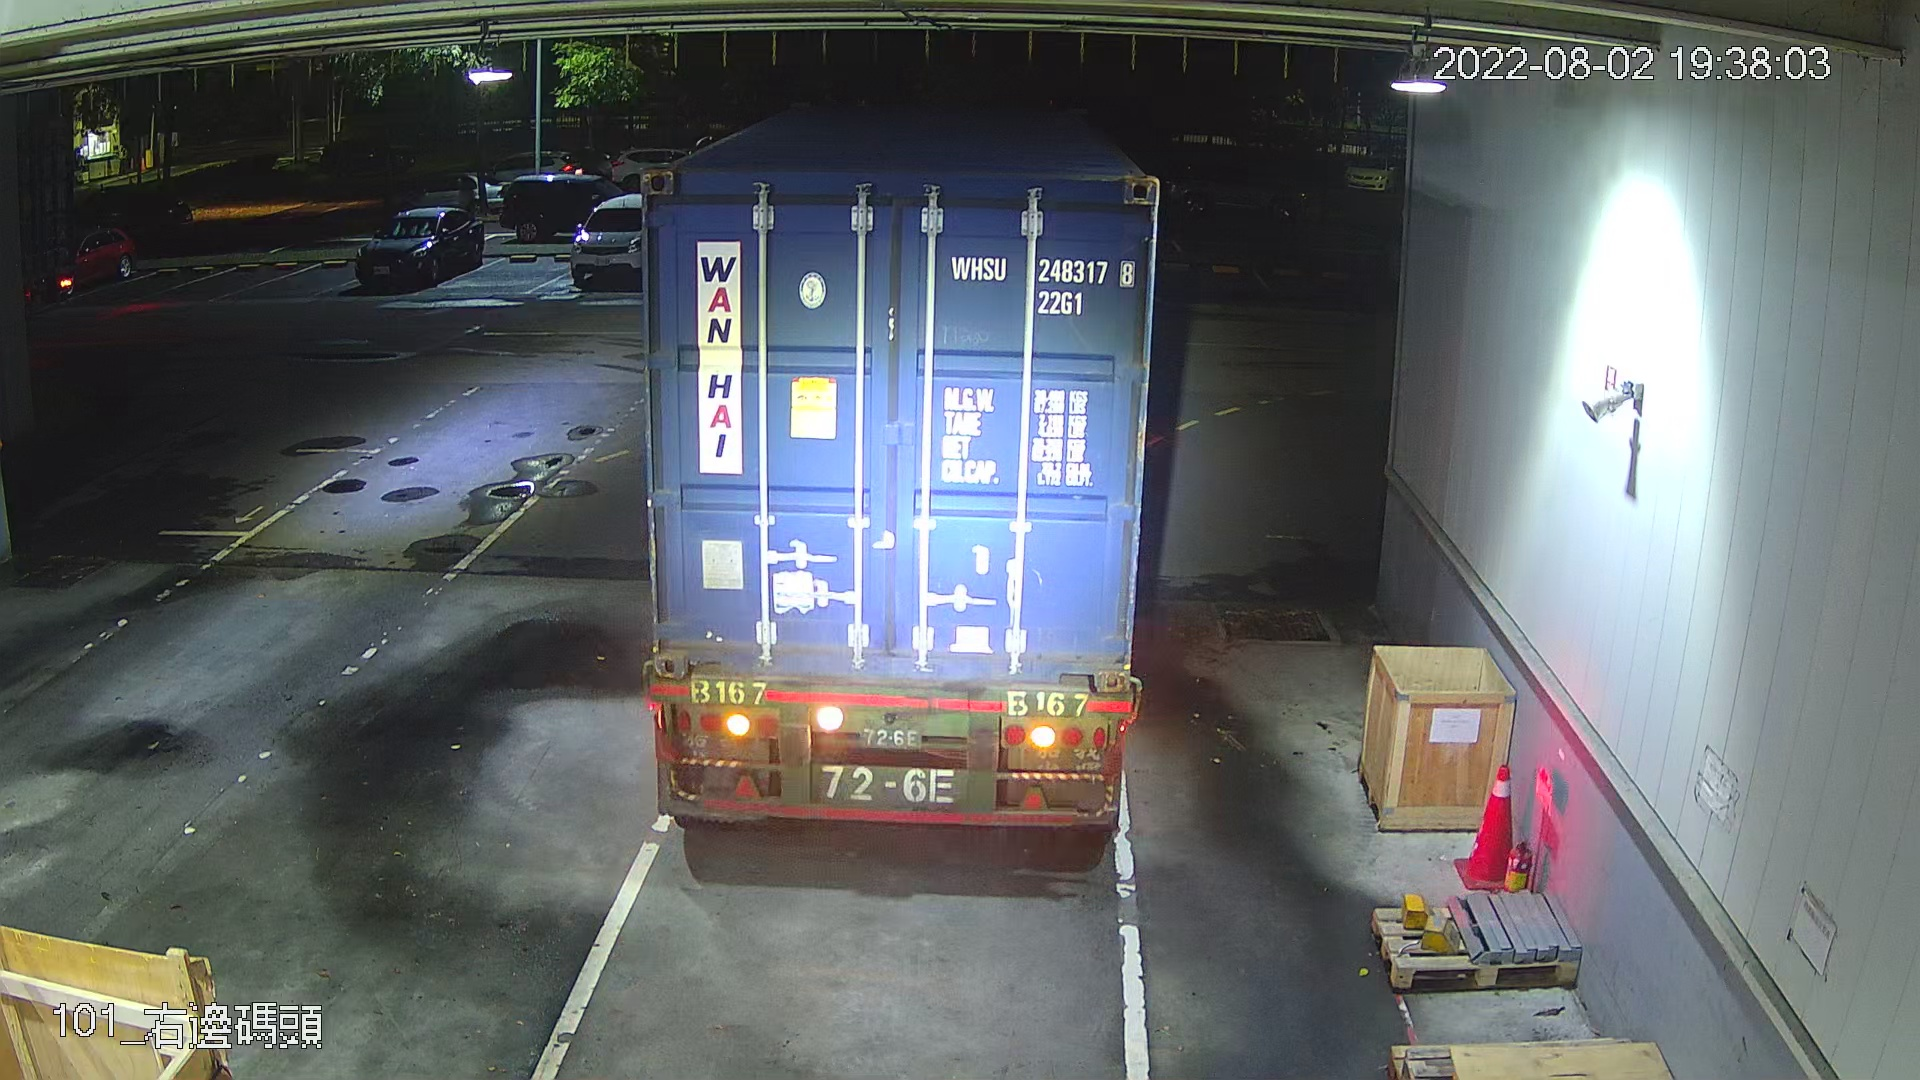container: (942, 249, 1145, 326)
